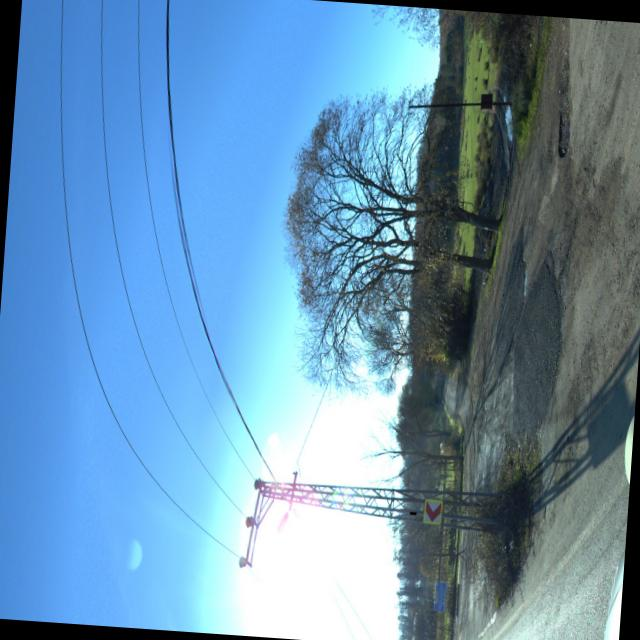Utility Pole Information Plate: (409, 511, 416, 514)
